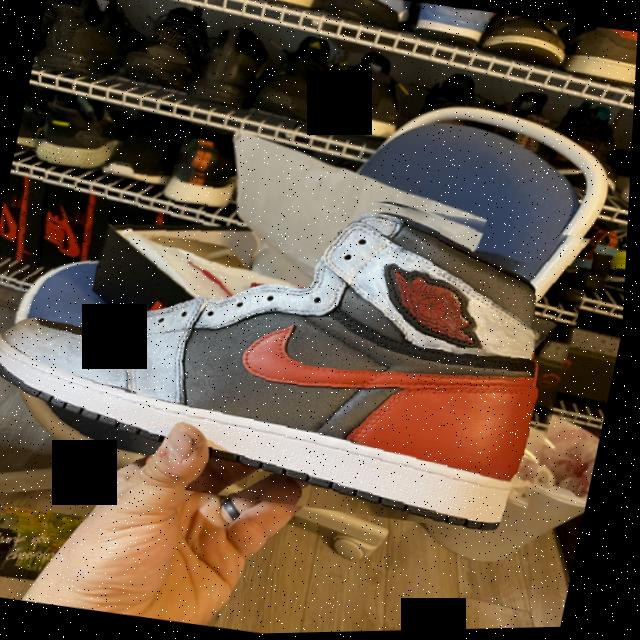shoe: (0, 135, 608, 550)
